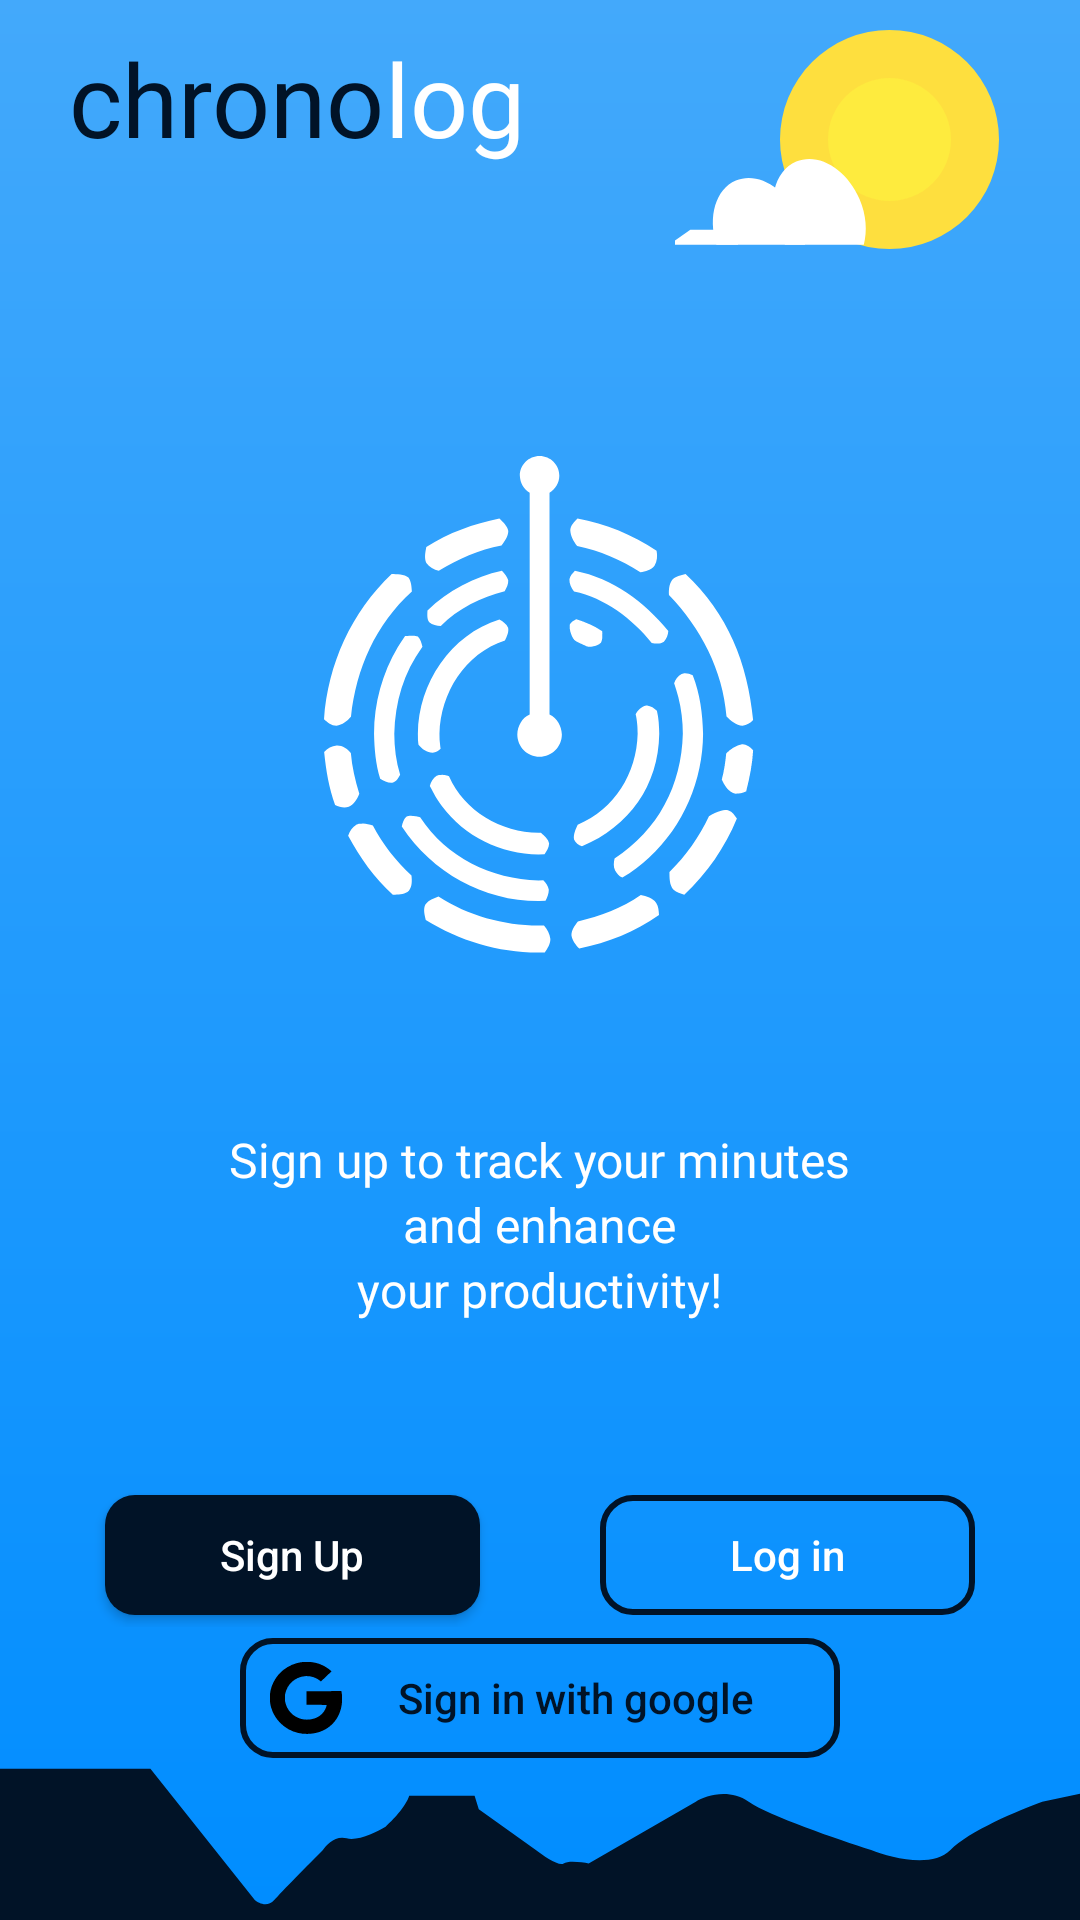

Screen size 1080 × 1920. Icon name, then its center in pixels as (x=x, y=y):
sun: (x=837, y=139)
